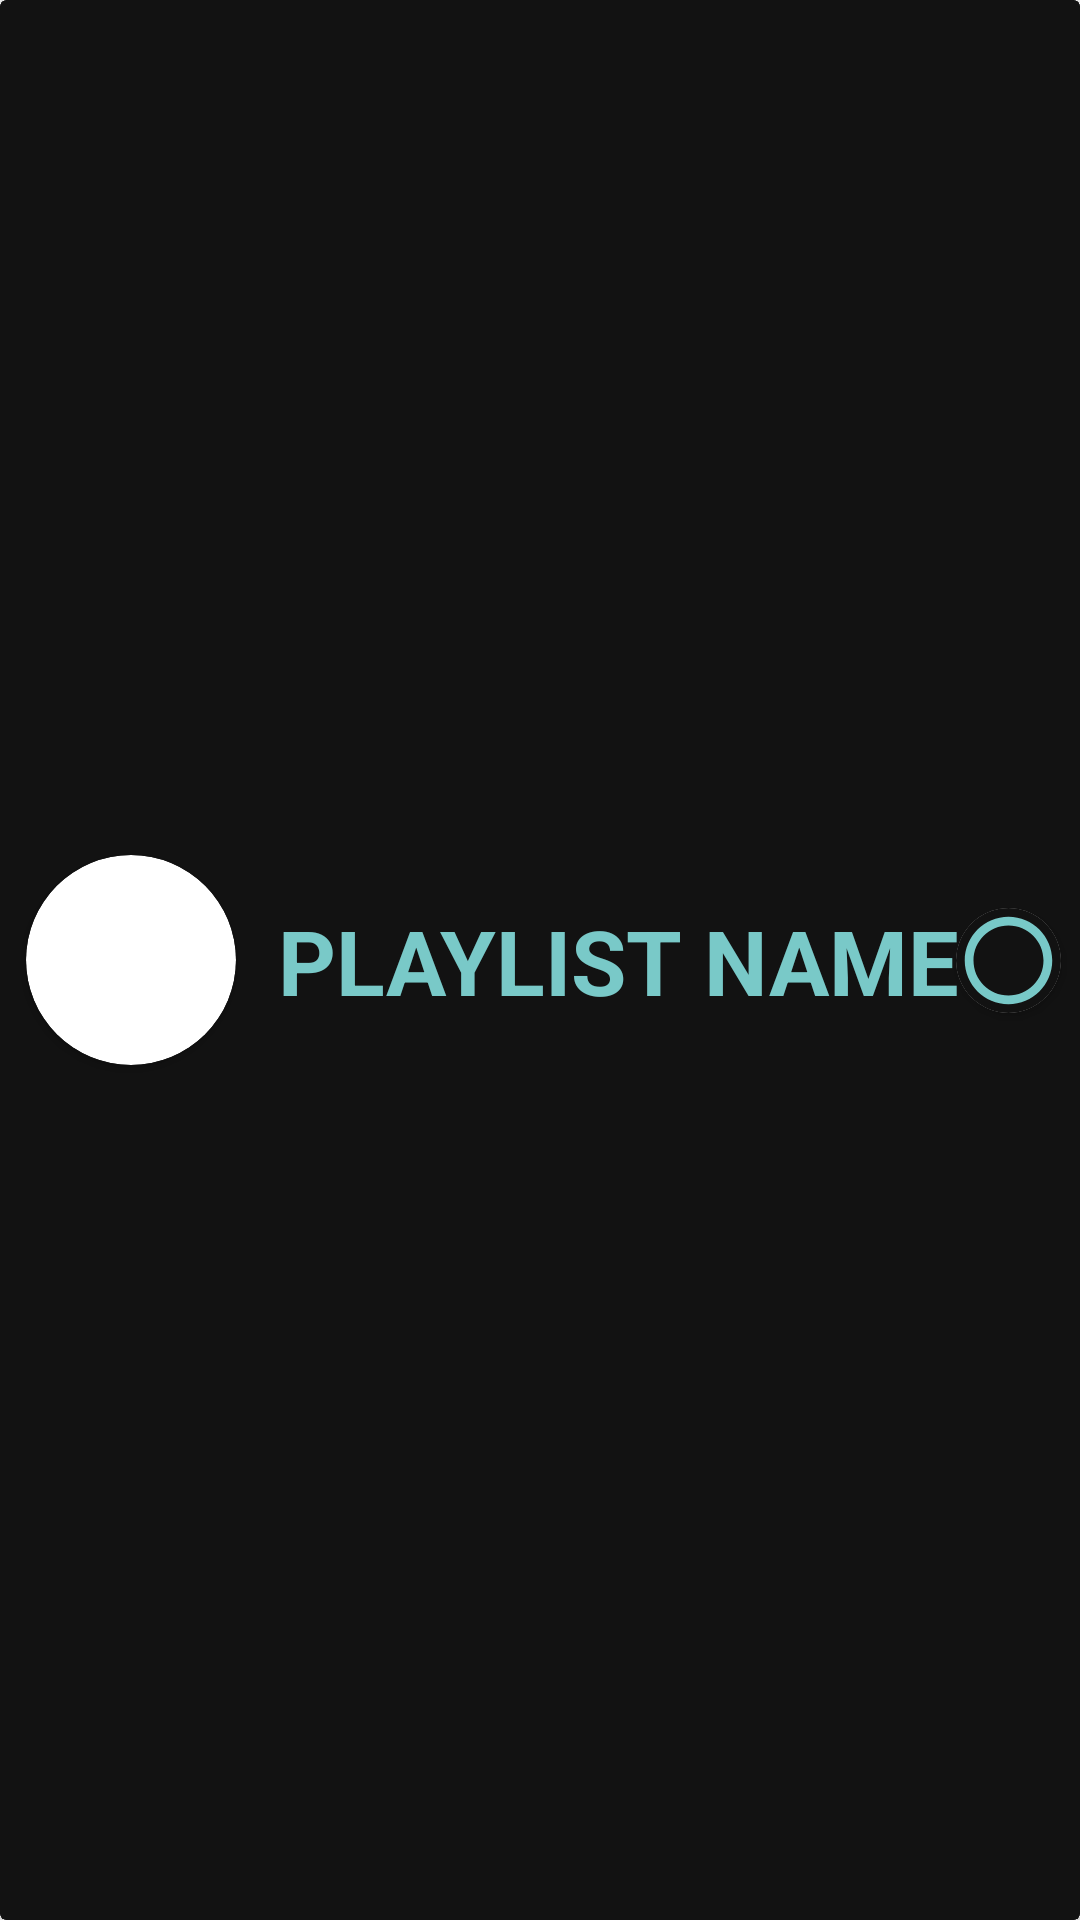

Icon click points for this 1080px×1920px phone screenshot, format (x,y):
radio off: (1008,960)
